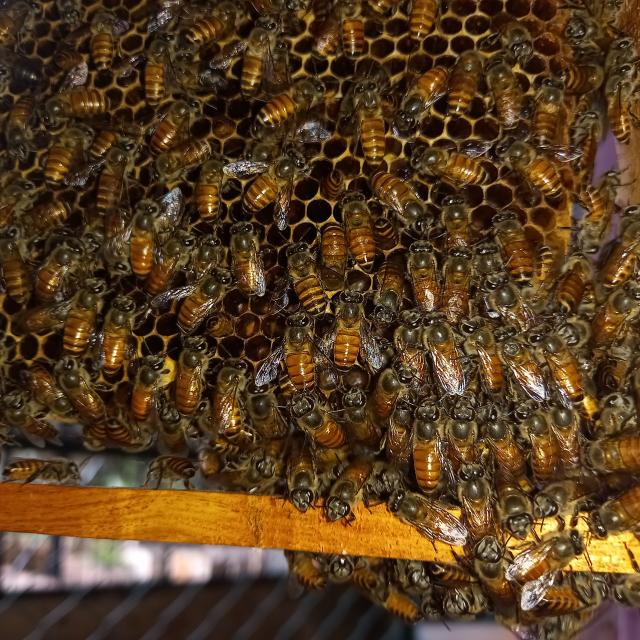honeybee: (372, 489, 467, 561), (234, 154, 312, 231), (332, 86, 406, 159), (235, 80, 335, 134), (54, 358, 121, 436), (594, 16, 640, 122), (506, 534, 606, 580), (0, 440, 90, 491), (507, 584, 609, 628), (160, 344, 206, 435), (499, 139, 564, 201), (58, 292, 105, 376), (335, 361, 376, 457), (479, 420, 531, 494), (279, 307, 328, 385), (35, 134, 103, 190), (178, 166, 237, 230), (491, 218, 550, 282), (285, 392, 333, 467), (332, 399, 377, 478), (407, 133, 475, 185), (225, 31, 277, 98), (103, 303, 147, 382), (479, 11, 539, 68), (500, 490, 564, 542), (593, 218, 640, 287), (327, 468, 371, 541), (325, 299, 371, 368), (543, 336, 584, 413), (120, 43, 170, 106), (544, 247, 594, 310), (136, 99, 197, 150), (4, 360, 54, 422), (467, 248, 510, 320), (31, 242, 79, 306), (115, 208, 157, 281), (569, 492, 640, 535), (460, 478, 499, 556), (349, 184, 429, 222), (411, 411, 446, 496), (148, 443, 208, 492), (552, 404, 592, 477), (222, 232, 276, 286), (326, 0, 376, 58), (403, 239, 445, 308), (424, 585, 496, 625), (445, 246, 482, 318), (506, 338, 546, 404), (438, 62, 490, 112), (564, 52, 620, 98), (596, 289, 640, 347), (388, 317, 428, 379), (435, 196, 483, 246), (524, 415, 563, 474), (215, 365, 246, 435), (453, 414, 486, 479), (253, 396, 285, 463), (276, 482, 316, 535), (56, 92, 118, 126), (568, 119, 599, 185), (468, 338, 502, 393), (197, 225, 218, 314), (158, 239, 186, 304), (550, 7, 589, 53), (436, 331, 466, 390), (494, 65, 522, 125), (532, 88, 562, 143), (399, 6, 439, 43), (506, 457, 508, 475)
